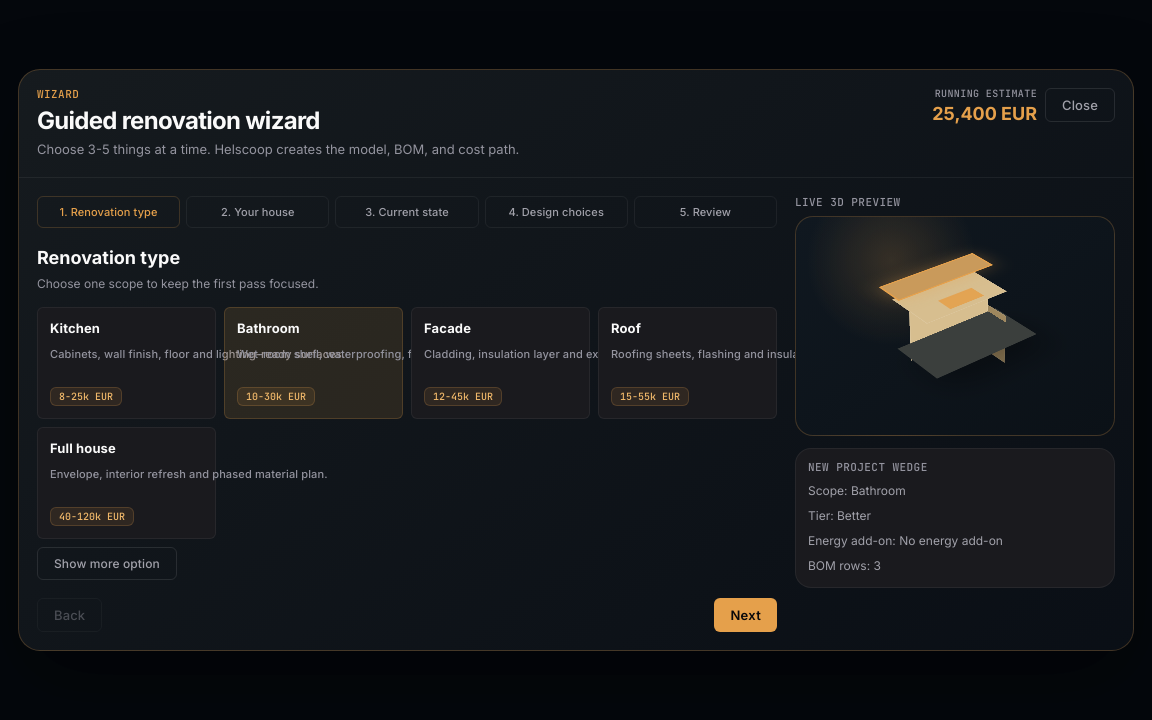
Scenario: GuidedRenovationWizard › reveals the sixth scope option behind show more
Click the button "Show more option" at coordinates (107, 564), box [37, 547, 177, 580]
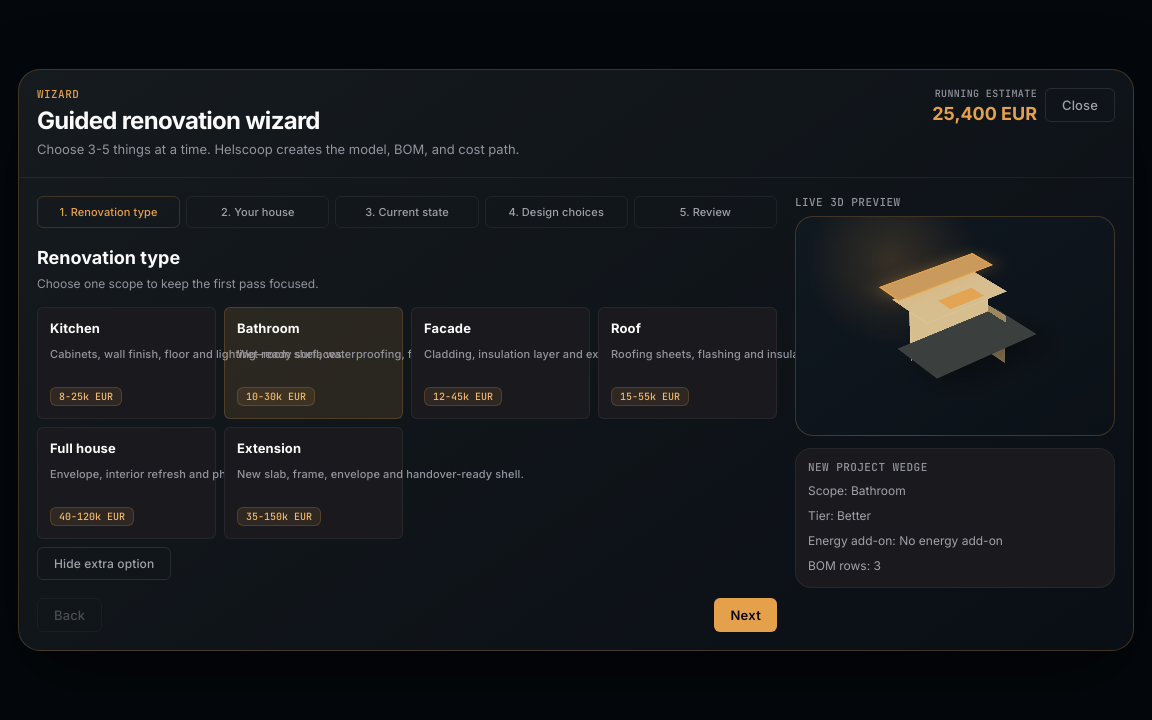
Now the text "Extension" is shown, box [237, 440, 301, 456]
